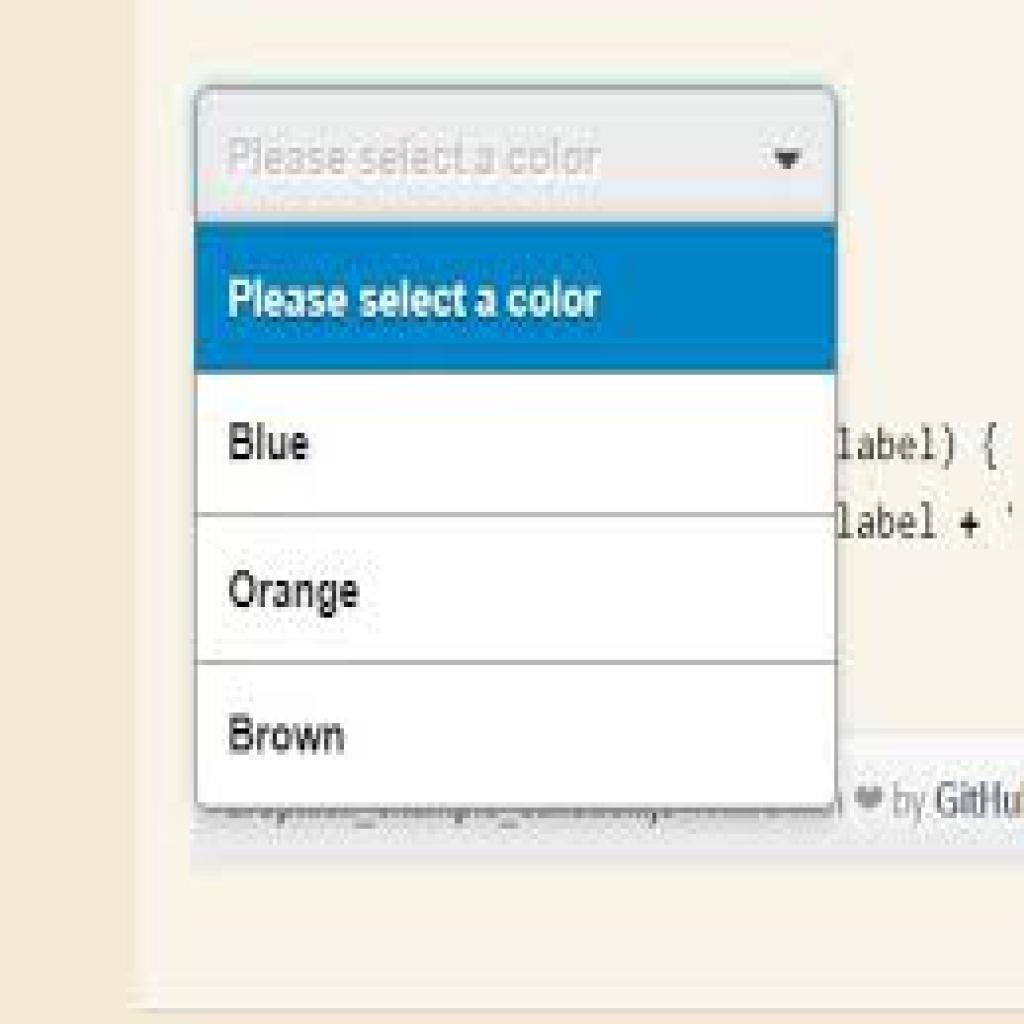dropdown: (195, 91, 837, 223)
